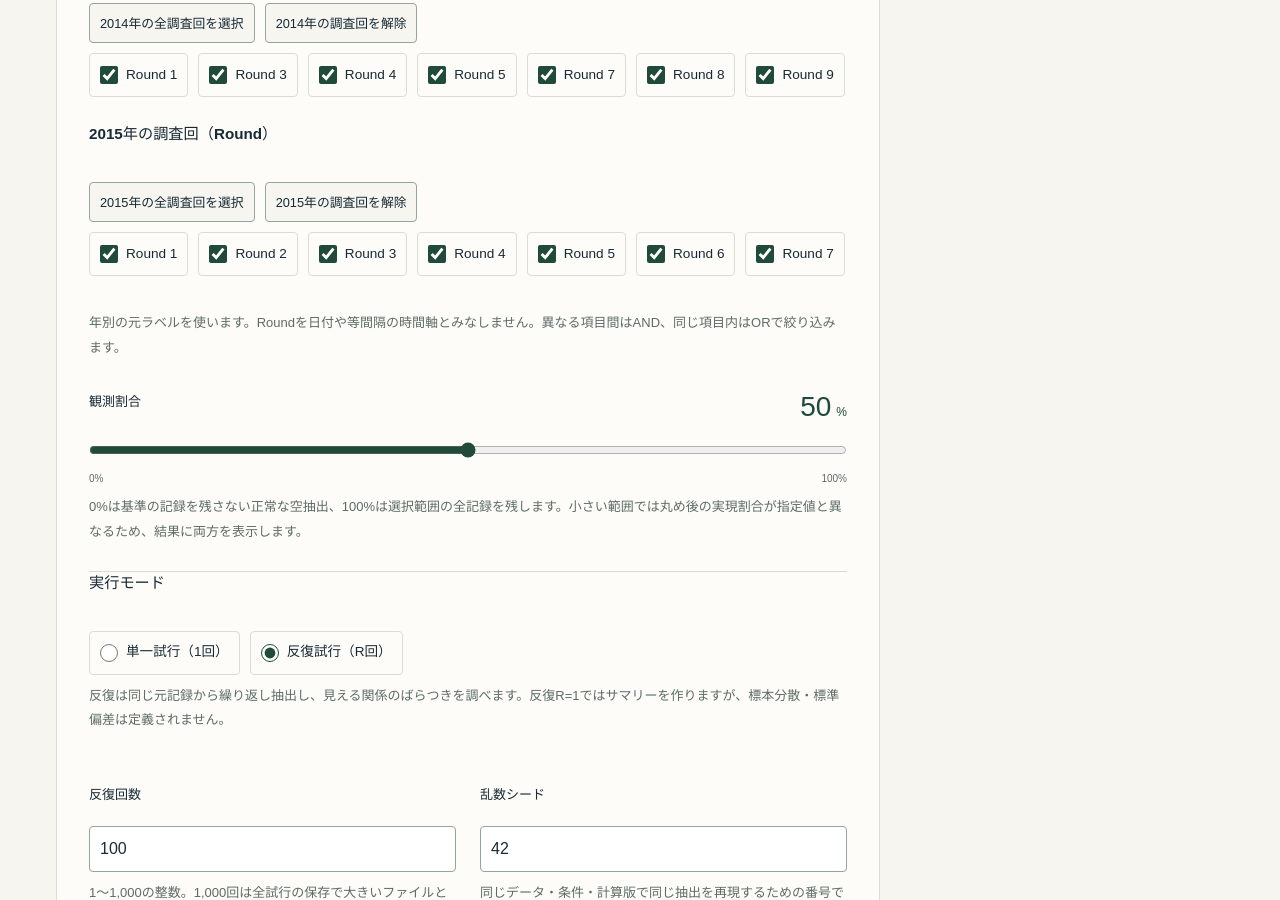
Test case: ECO MIRRORの画面基盤 › 条件の下書きを画面間で保持し、初期値に戻せる
(page scrolled)
Set the slider labelled "観測割合" to "75" at (654,450), box 89,436 -> 847,464
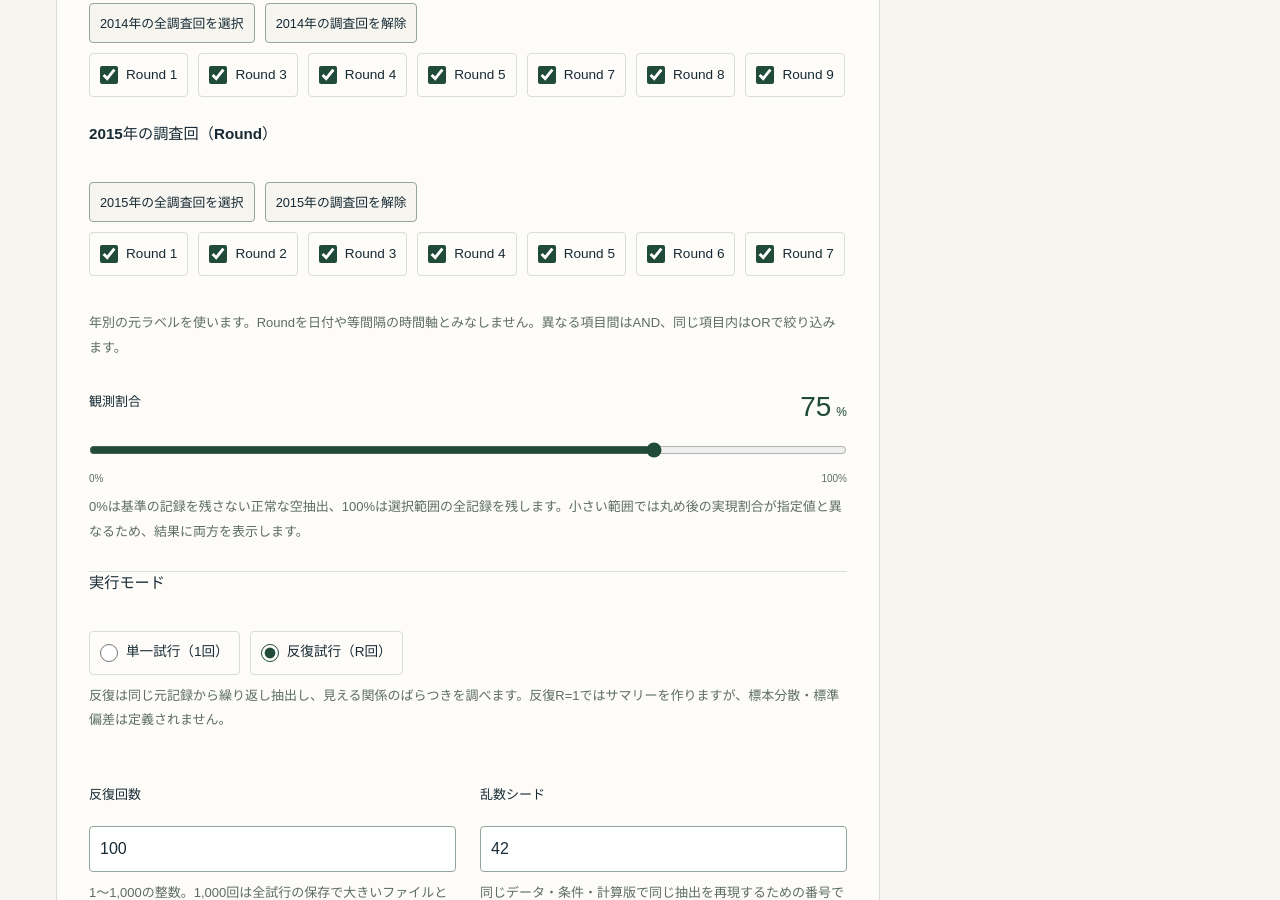
Replace the text in the field labelled "反復回数" with "250" at (272,848), box 89,826 -> 456,872
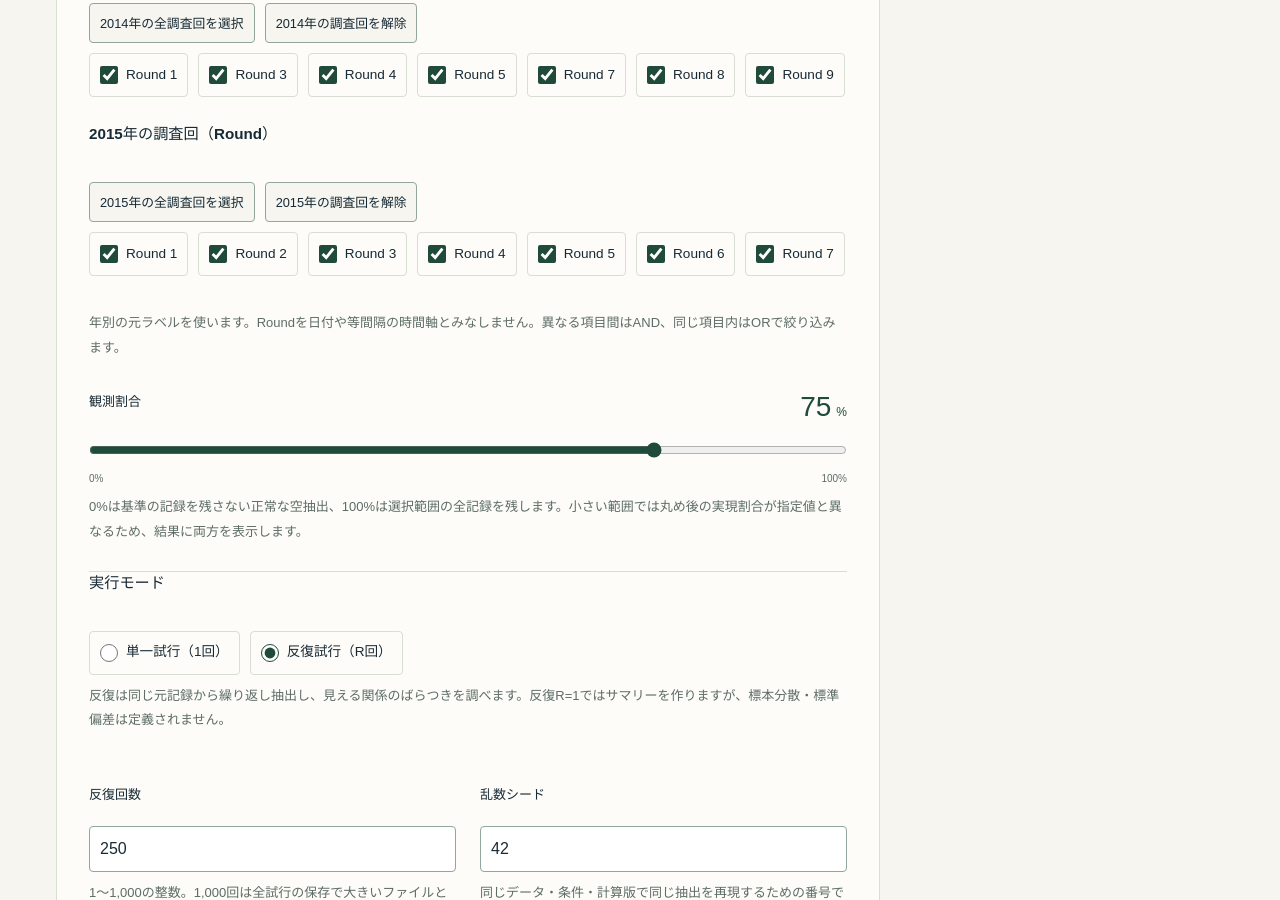
Replace the text in the field labelled "乱数シード" with "123" at (664,848), box 480,826 -> 847,872
(page scrolled)
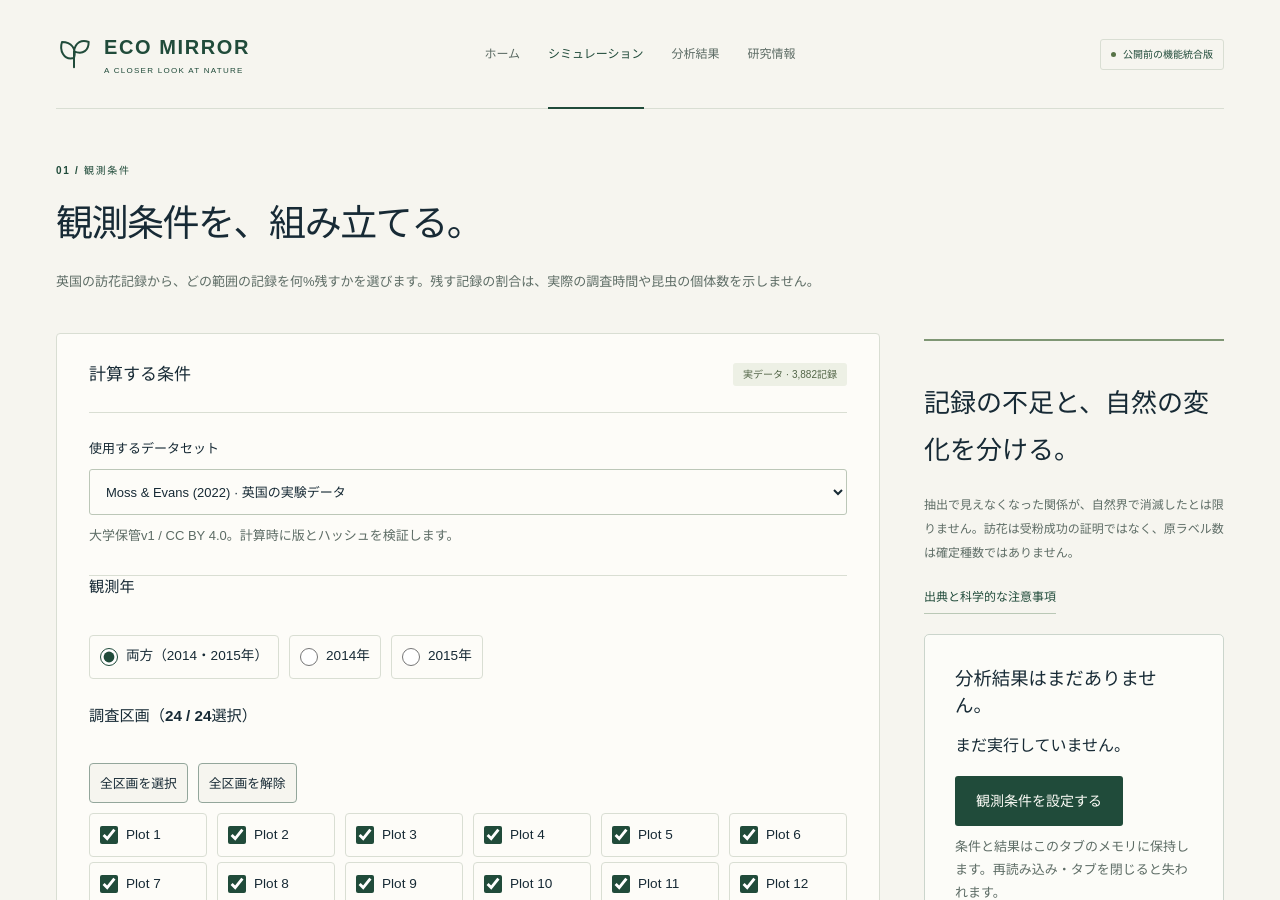
Click the link "分析結果" at (696,54), box 672,47 -> 720,61
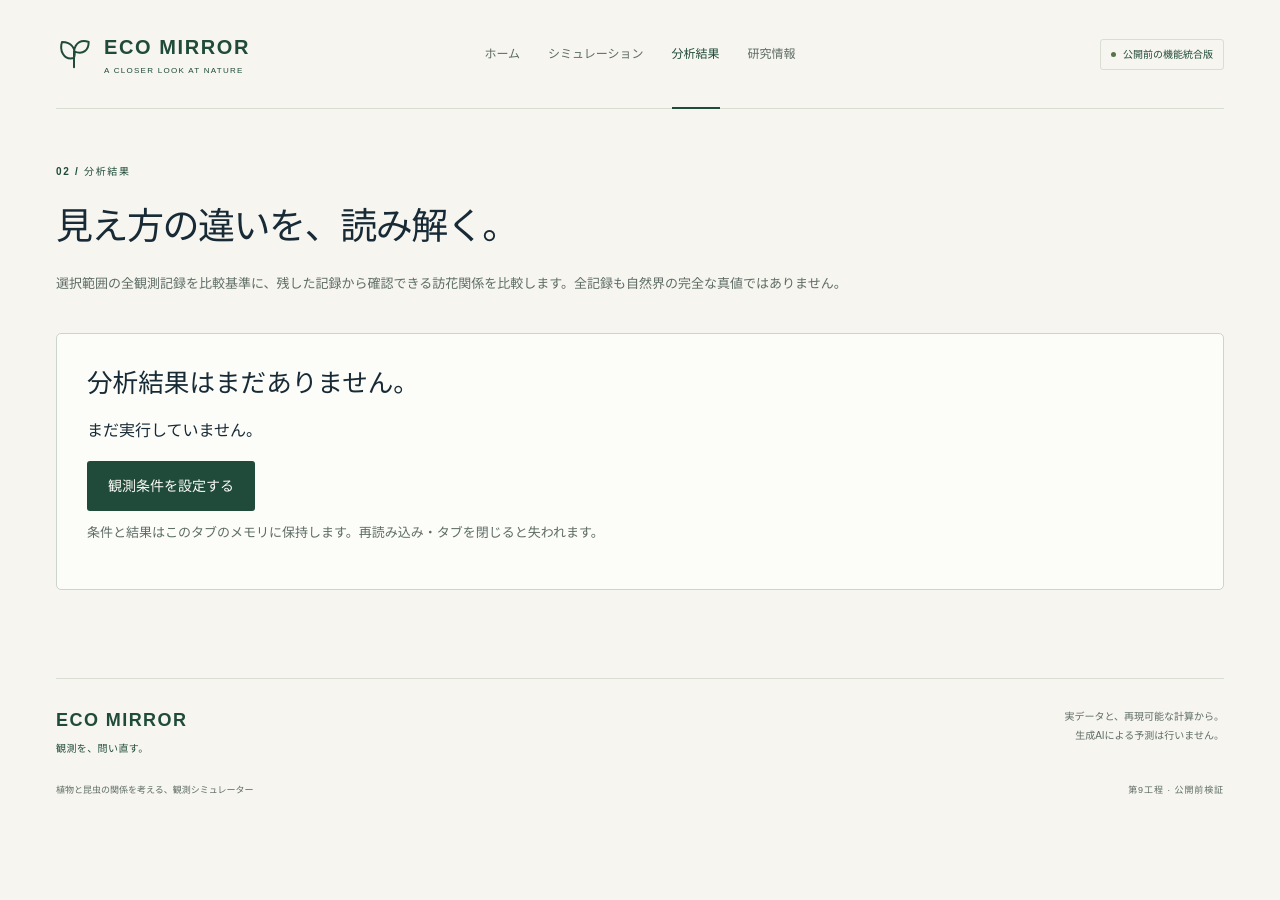
Expected: the heading "分析結果はまだありません。" is shown, 87,369 -> 419,397
Click the link "シミュレーション" at (596,54), box 548,47 -> 644,61
(page scrolled)
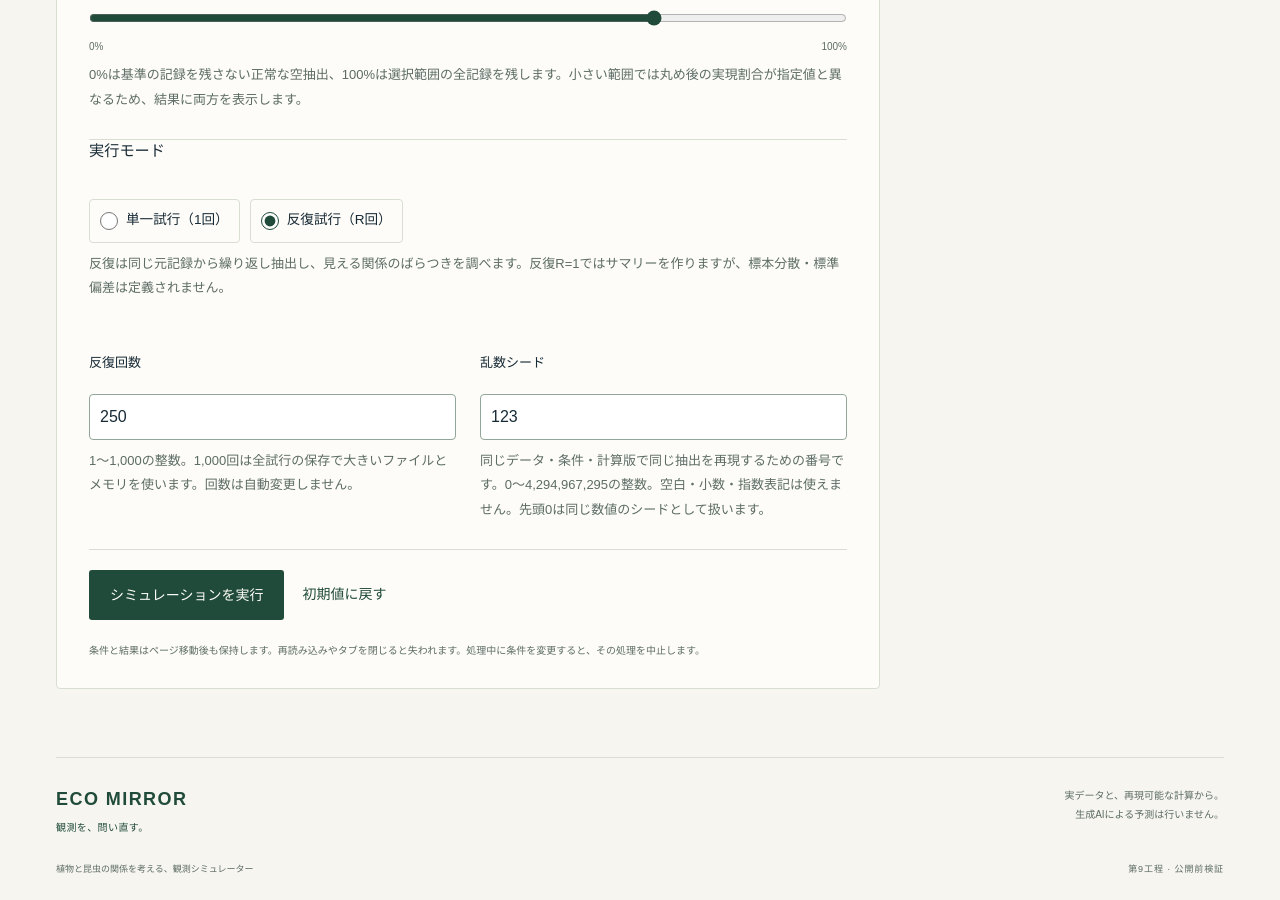
Expected: the slider labelled "観測割合" holds "75", 89,4 -> 847,32
Expected: the field labelled "反復回数" holds "250", 89,394 -> 456,440
Expected: the field labelled "乱数シード" holds "123", 480,394 -> 847,440
Click the button "初期値に戻す" at (344,595), box 302,573 -> 386,617
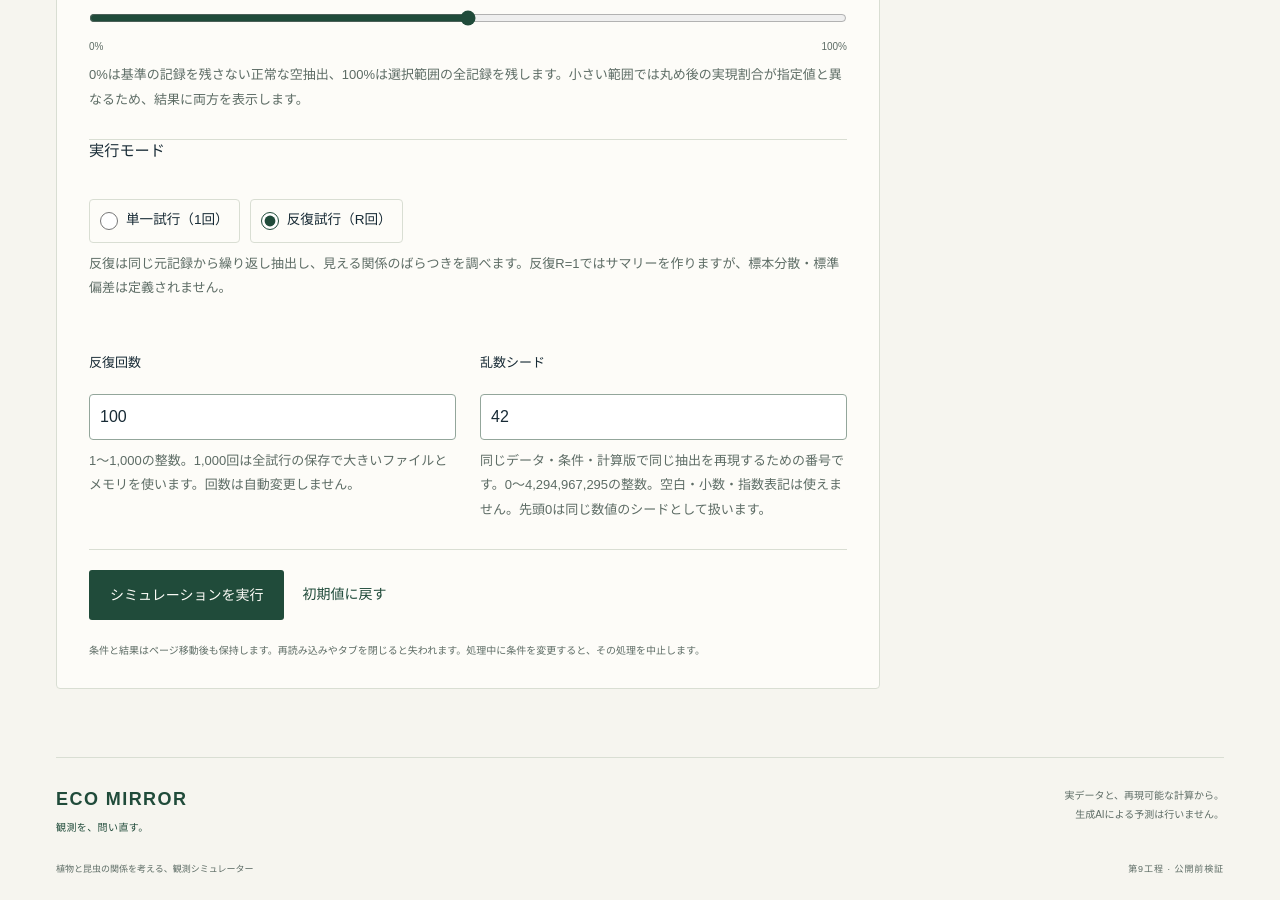
Expected: the slider labelled "観測割合" holds "50", 89,4 -> 847,32
Expected: the field labelled "反復回数" holds "100", 89,394 -> 456,440
Expected: the field labelled "乱数シード" holds "42", 480,394 -> 847,440
